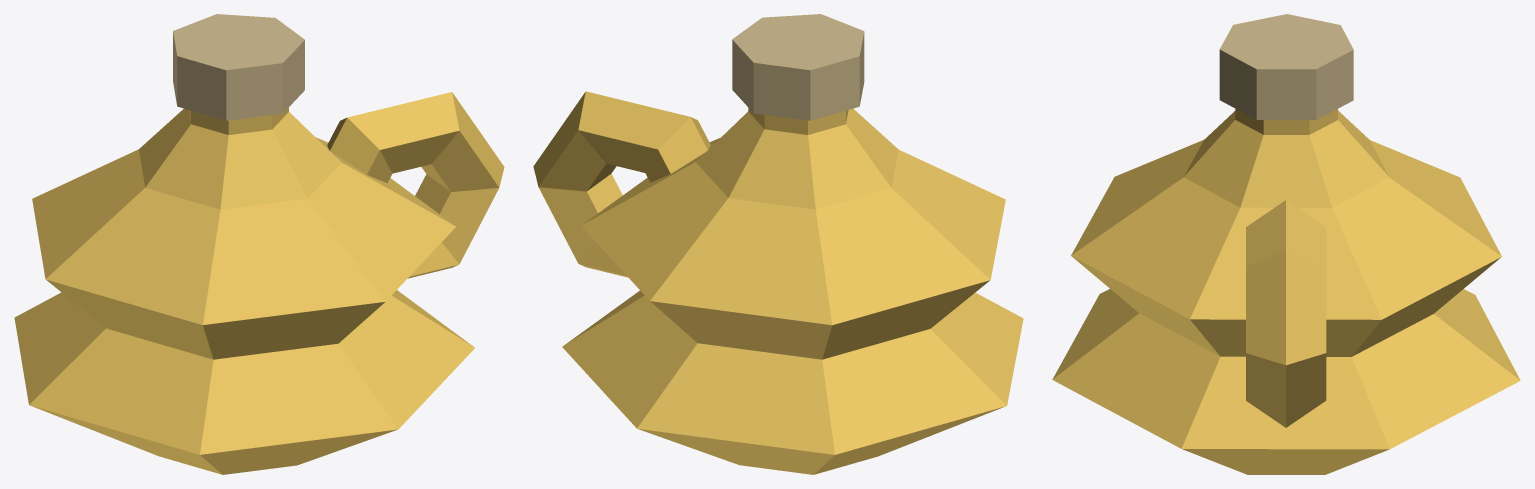
The model's file is ShortHandlePotion.039.fbx.
3 renders of one model, left to right at view 1: azimuth 30°, elevation 25°; view 2: azimuth 150°, elevation 25°; view 3: azimuth 270°, elevation 25°, orthographic.
Visible parts, largest first — view 1: ShortHandlePotion.039; view 2: ShortHandlePotion.039; view 3: ShortHandlePotion.039.
Boxes of the visible parts, x1,y1,x2,y2 form: ShortHandlePotion.039: [14, 14, 504, 474]; ShortHandlePotion.039: [533, 14, 1023, 474]; ShortHandlePotion.039: [1052, 14, 1520, 474].
Bounding box in the file's own units: 15.97 × 12.73 × 13.59.
